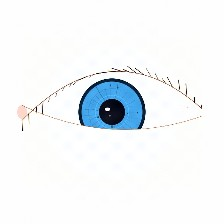pinguecula_lesion: (157, 100, 186, 123)
